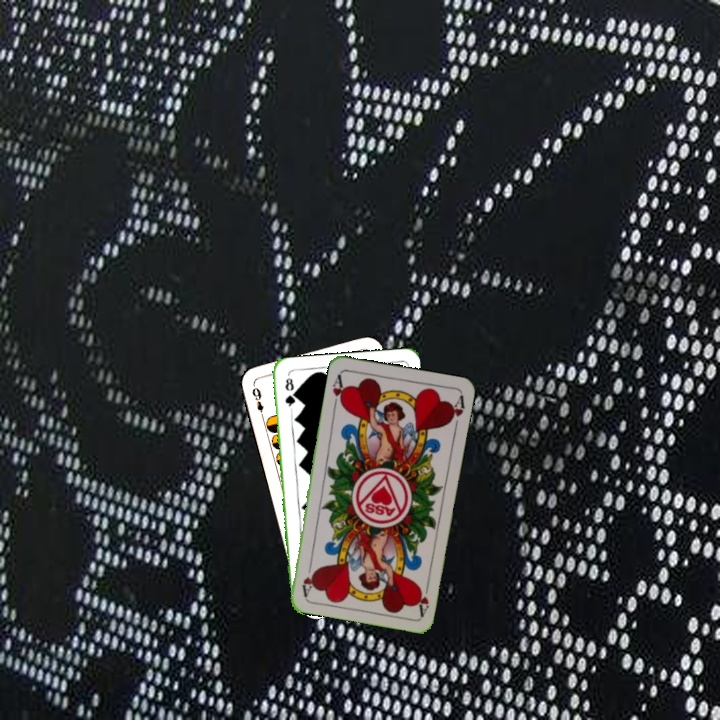E9: (248, 382, 266, 422)
G8: (281, 374, 297, 413)
HA: (412, 577, 432, 618), (328, 370, 348, 410)
